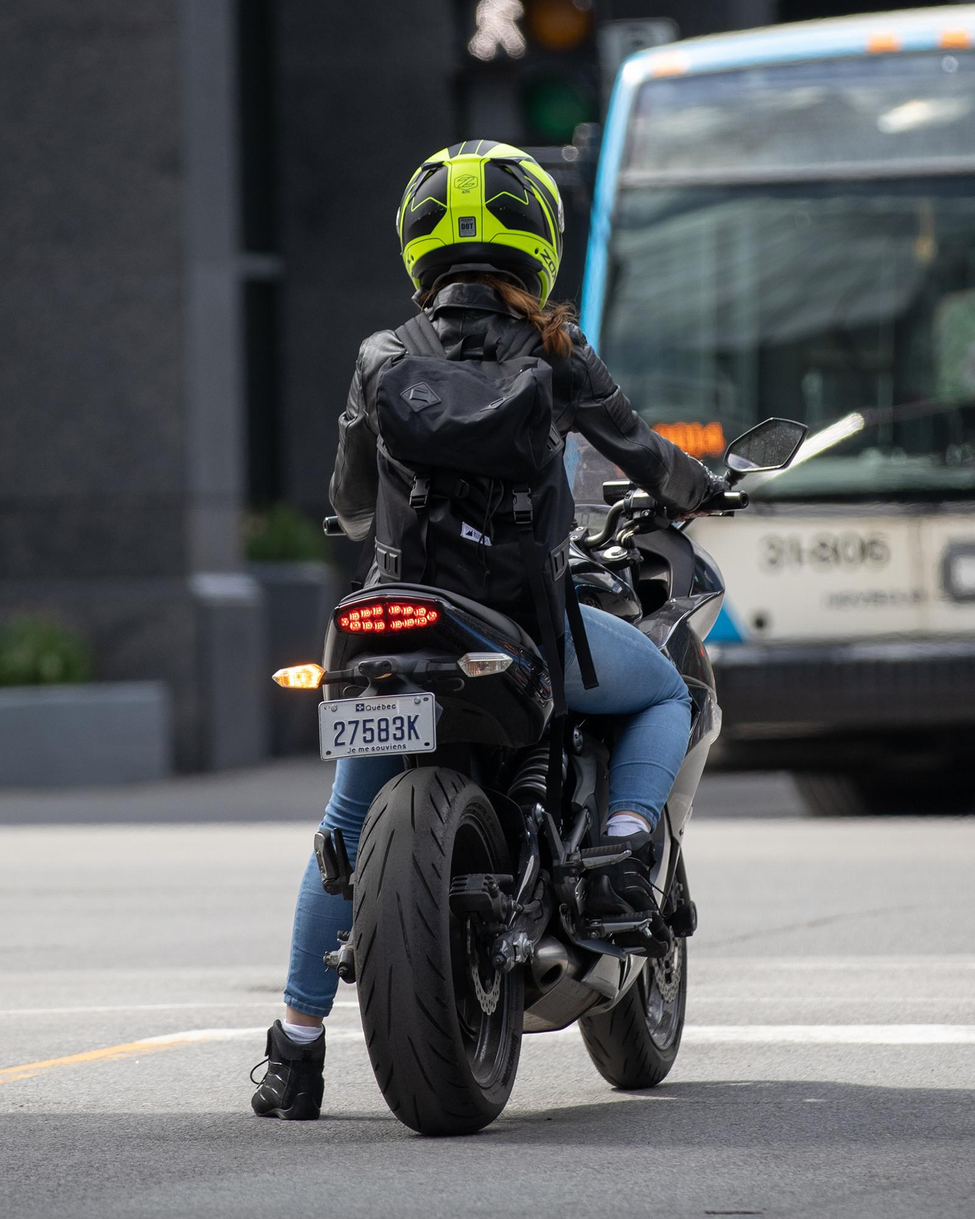helmet: (394, 138, 566, 328)
